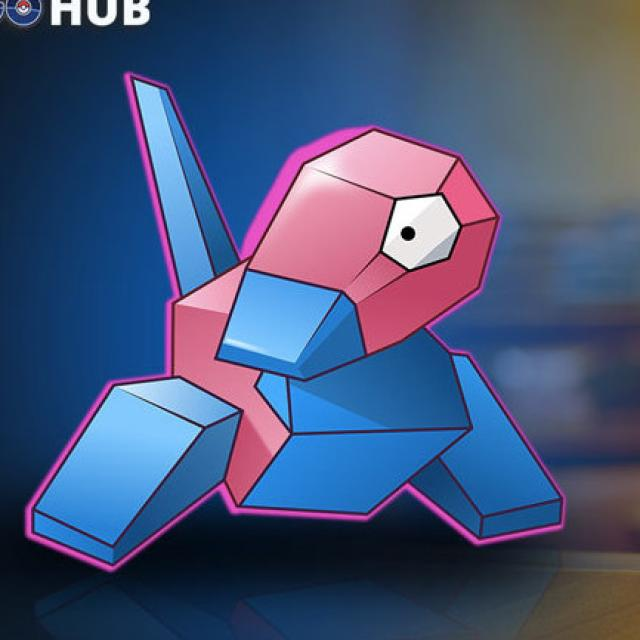Porygon: (108, 134, 496, 516)
